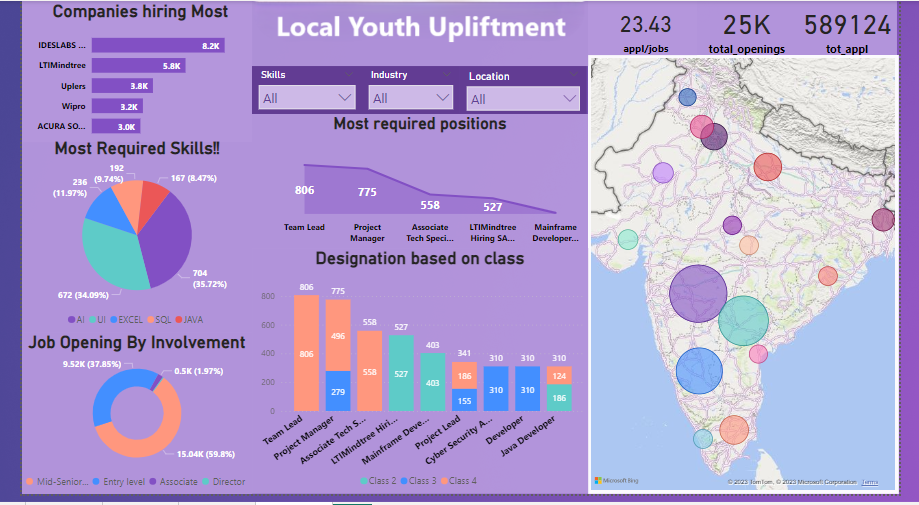

What the dashboard file says about the page in this screenshot:
{"tool":"powerbi","page":{"name":"Page 6","canvas":[1280,720],"ordinal":5},"visuals":[{"type":"clusteredBarChart","title":"Companies hiring Most","fields":{"Category":["ML_final_data(Darr).Name"],"Y":["ML_final_data(Darr).Name"]},"box":[0,0,336.4,206.5],"z":0},{"type":"card","fields":{"Values":["ML_final_data(Darr).total_openings"]},"box":[984.6,0,147.7,79.3],"z":1000},{"type":"card","fields":{"Values":["ML_final_data(Darr).tot_appl"]},"box":[1132.3,0,146.3,79.3],"z":2000},{"type":"stackedAreaChart","title":"Most required positions","fields":{"Category":["ML_final_data(Darr).Designation"],"Y":["ML_final_data(Darr).Designation"]},"box":[335.9,165,490.7,195.7],"z":3000},{"type":"map","fields":{"Series":["ML_final_data(Darr).Location"],"Size":["ML_final_data(Darr).Location"],"Category":["ML_final_data(Darr).Location","Number of skills.Skills"],"X":["Number of skills.Skills"]},"box":[825.4,79,455,641.4],"z":4000},{"type":"pieChart","title":"Most Required Skills!!","fields":{"Category":["Number of skills.Skills"],"Y":["Number of skills.count_of_skill"]},"box":[0,199.9,336,283.9],"z":5000},{"type":"card","fields":{"Values":["ML_final_data(Darr).appl/jobs"]},"box":[826,0,158.6,79.3],"z":6000},{"type":"slicer","fields":{"Values":["Number of skills.Skills"]},"box":[335.9,94.9,160.6,70.1],"z":7000},{"type":"slicer","fields":{"Values":["ML_final_data(Darr).Industry"]},"box":[496.6,94.9,143.1,70.1],"z":8000},{"type":"slicer","fields":{"Values":["ML_final_data(Darr).Location"]},"box":[639.7,94.9,185.5,70.1],"z":9000},{"type":"donutChart","title":"Job Opening By Involvement","fields":{"Category":["ML_final_data(Darr).Involvement"],"Y":["ML_final_data(Darr).Name"]},"box":[0,483.8,336,236.9],"z":10000},{"type":"columnChart","title":"Designation based on class","fields":{"Category":["ML_final_data(Darr).Designation"],"Y":["ML_final_data(Darr).Designation"],"Series":["ML_final_data(Darr).Class"]},"box":[335.9,360.7,490.7,359.3],"z":11000},{"type":"textbox","box":[335.9,0,490.7,94.9],"z":12000}]}

Visuals, with their boxes in screenshot pixels (x1, y1, x2, y2), scaled from the page's 1280x720 canvas onto the 919x505 screenshot:
"Companies hiring Most" clusteredBarChart: {"left": 0, "top": 0, "right": 242, "bottom": 145}
card - ML_final_data(Darr).total_openings: {"left": 707, "top": 0, "right": 813, "bottom": 56}
card - ML_final_data(Darr).tot_appl: {"left": 813, "top": 0, "right": 918, "bottom": 56}
"Most required positions" stackedAreaChart: {"left": 241, "top": 116, "right": 593, "bottom": 253}
map - ML_final_data(Darr).Location x ML_final_data(Darr).Location: {"left": 593, "top": 55, "right": 918, "bottom": 504}
"Most Required Skills!!" pieChart: {"left": 0, "top": 140, "right": 241, "bottom": 339}
card - ML_final_data(Darr).appl/jobs: {"left": 593, "top": 0, "right": 707, "bottom": 56}
slicer - Number of skills.Skills: {"left": 241, "top": 67, "right": 356, "bottom": 116}
slicer - ML_final_data(Darr).Industry: {"left": 357, "top": 67, "right": 459, "bottom": 116}
slicer - ML_final_data(Darr).Location: {"left": 459, "top": 67, "right": 592, "bottom": 116}
"Job Opening By Involvement" donutChart: {"left": 0, "top": 339, "right": 241, "bottom": 504}
"Designation based on class" columnChart: {"left": 241, "top": 253, "right": 593, "bottom": 504}
textbox: {"left": 241, "top": 0, "right": 593, "bottom": 67}
